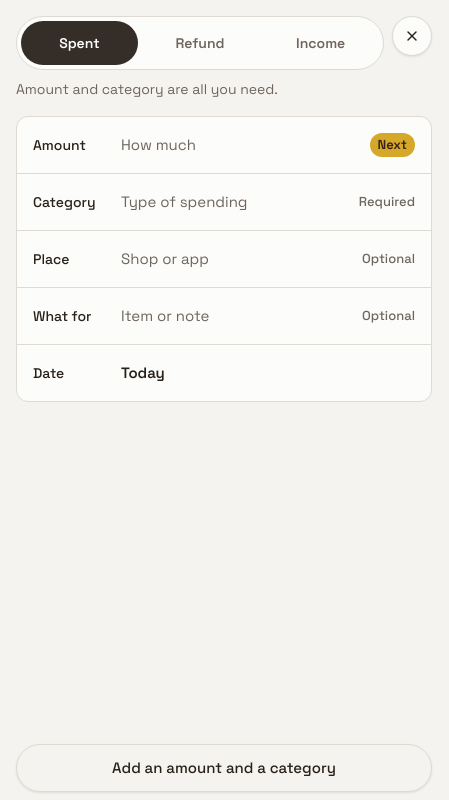
Test: /log picks on click (MOB-R82 B2) › a tap on Add a new place adds it, keyboard up
The width and height of the screenshot is (449, 800).
Click the button "Place Shop or app Optional" at (51, 259), box [17, 231, 431, 287]
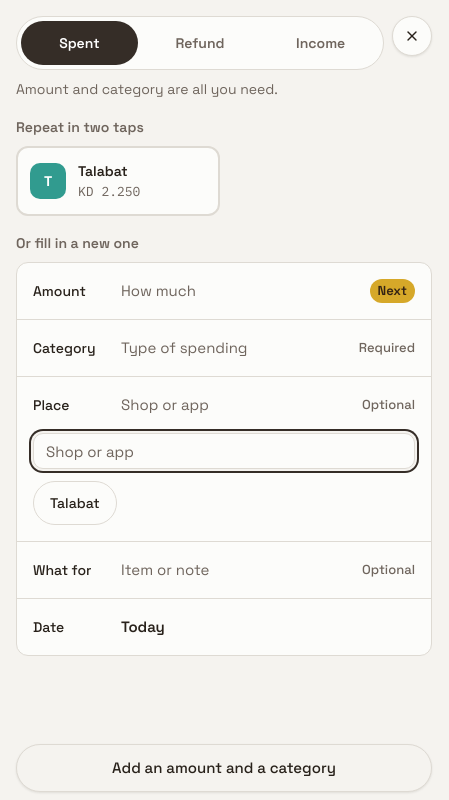
Type "Bread Co" into the field named "Search places" at (224, 451), box [33, 433, 415, 469]
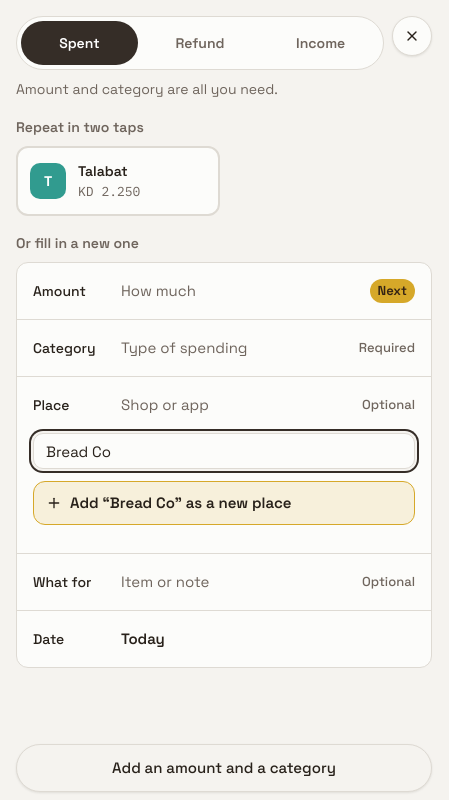
Click the button "Add “Bread Co” as a new place" at (224, 503), box [33, 481, 415, 525]
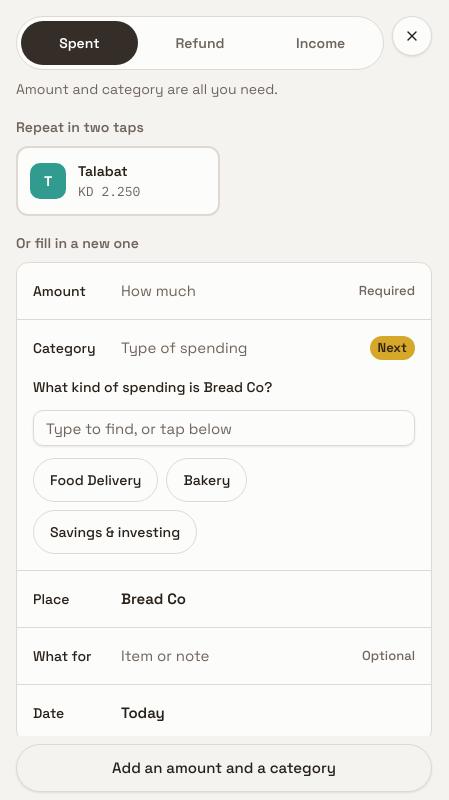
Result: the button "Place Bread Co" is shown at [17, 571, 431, 627]
